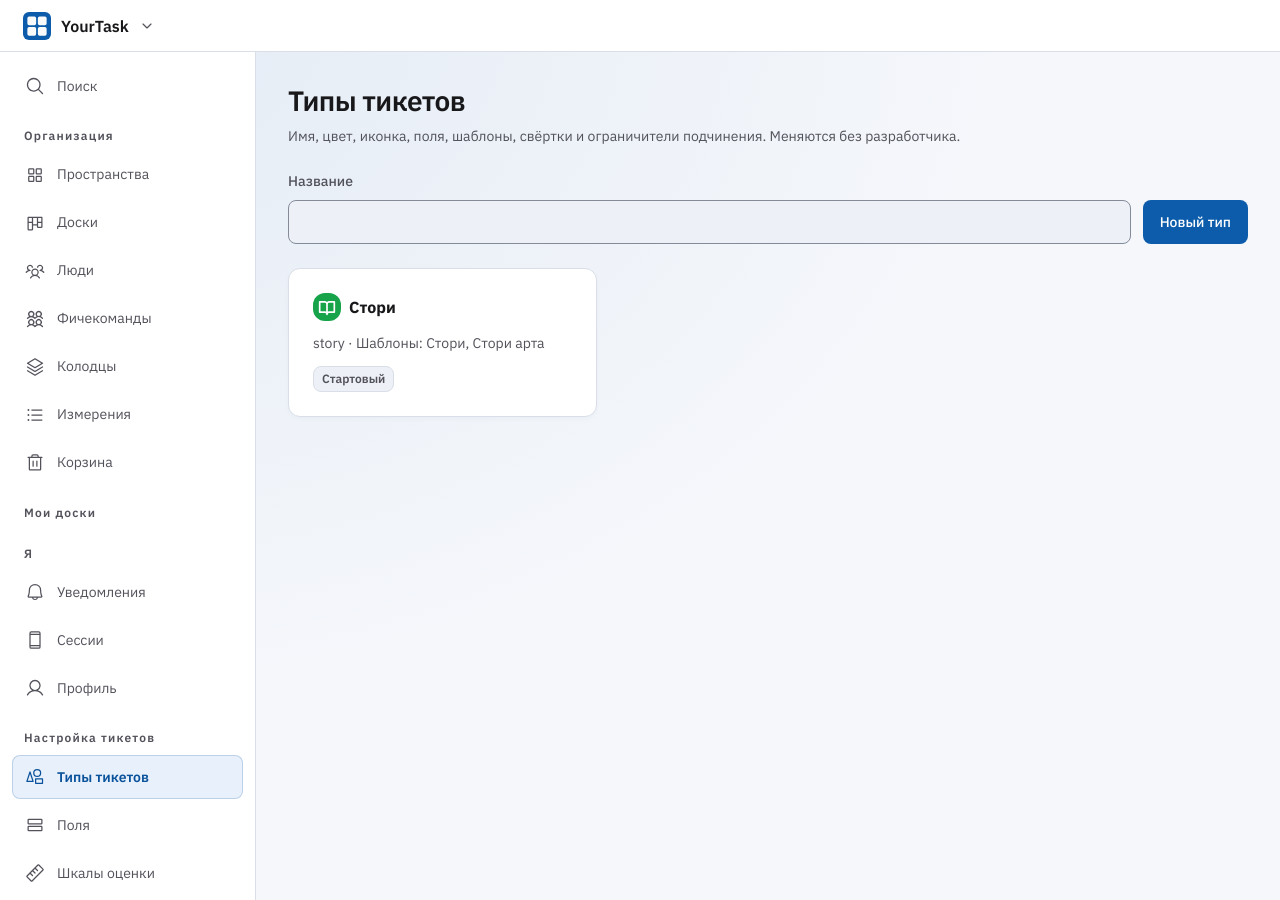
Scenario: ticket setup › admin creates type «Веха»: name first, colour and icon by default, then the type page
Type "Веха" into the field labelled "Название" at (709, 222), box [288, 200, 1131, 244]
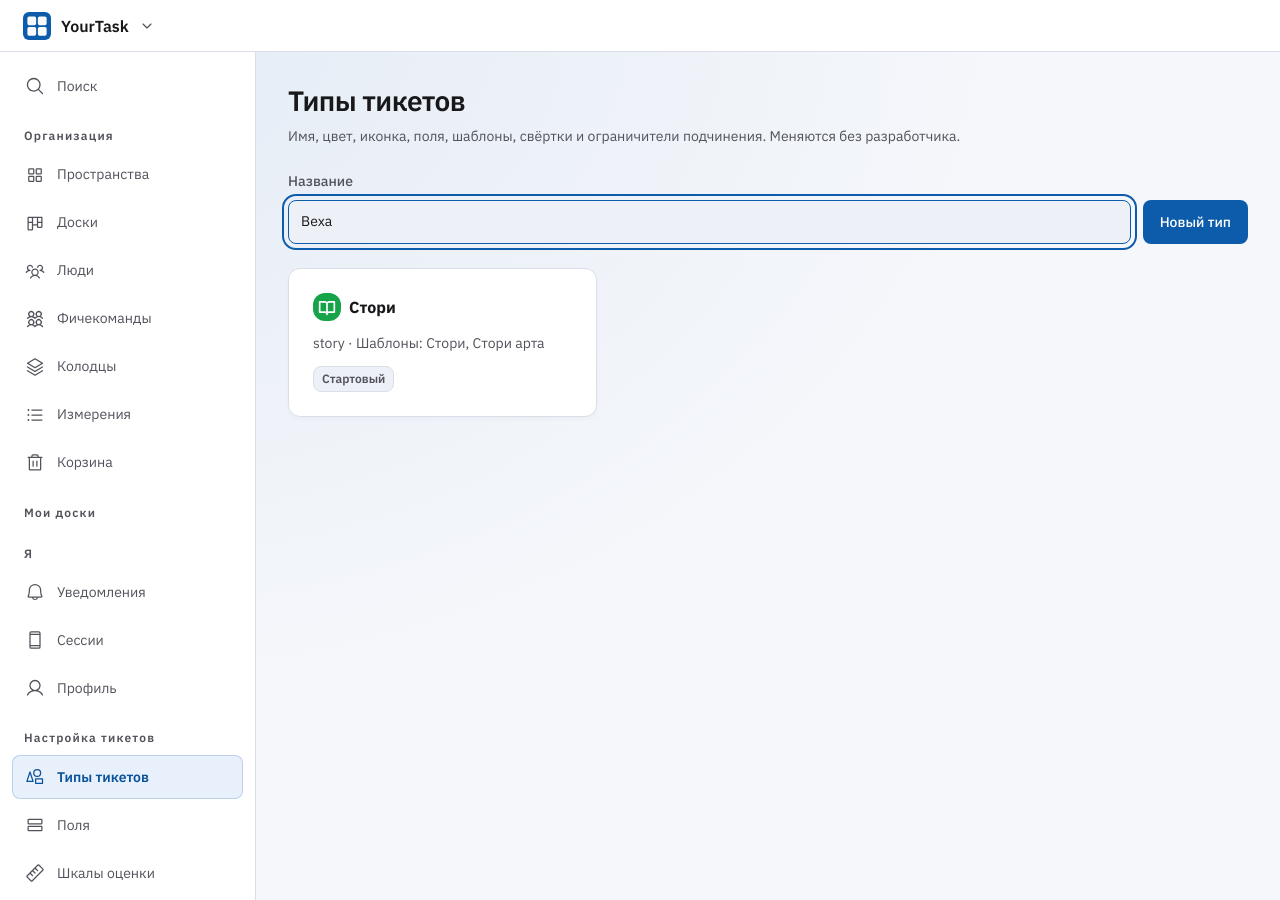
Click the button "Новый тип" at (1195, 222), box [1143, 200, 1248, 244]
(page scrolled)
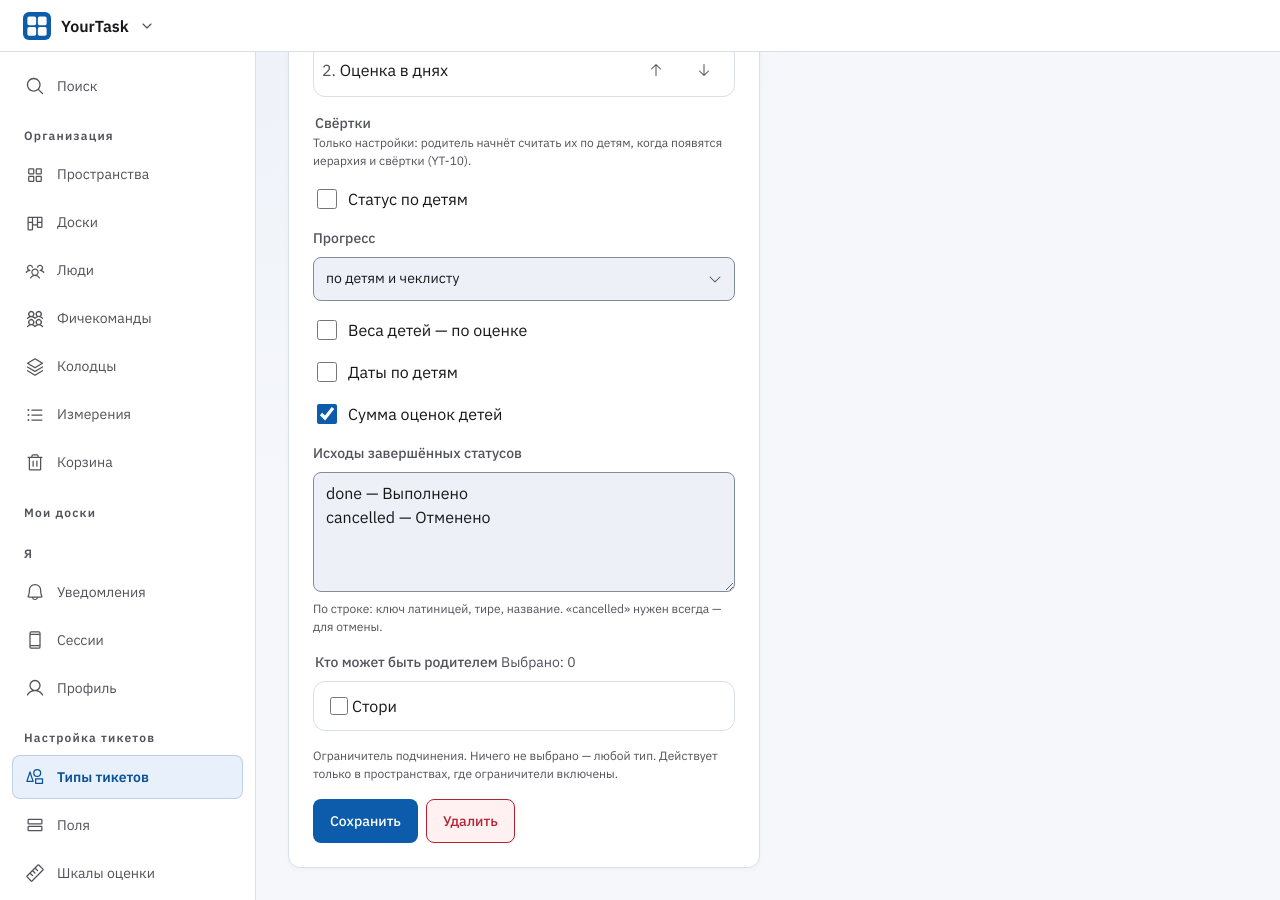
Check: the button "Удалить" is shown, box [426, 799, 515, 843]
